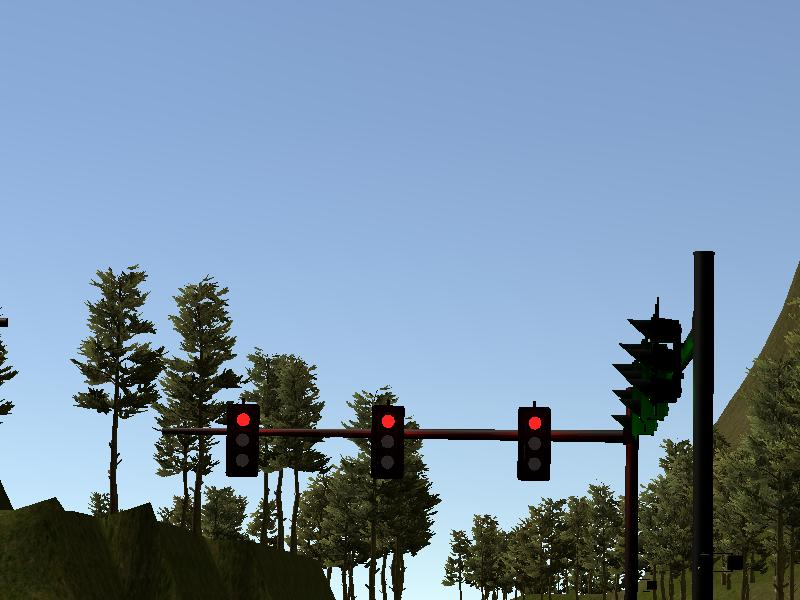Red: (225, 404, 257, 477), (371, 406, 404, 476), (520, 406, 550, 482)
